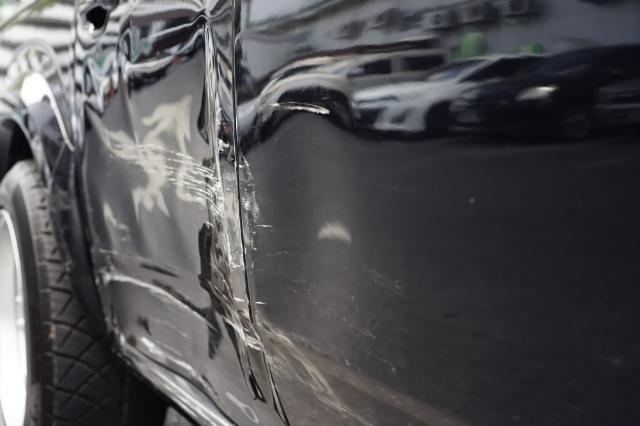dent: (240, 84, 352, 365)
scratch: (93, 106, 273, 394)
